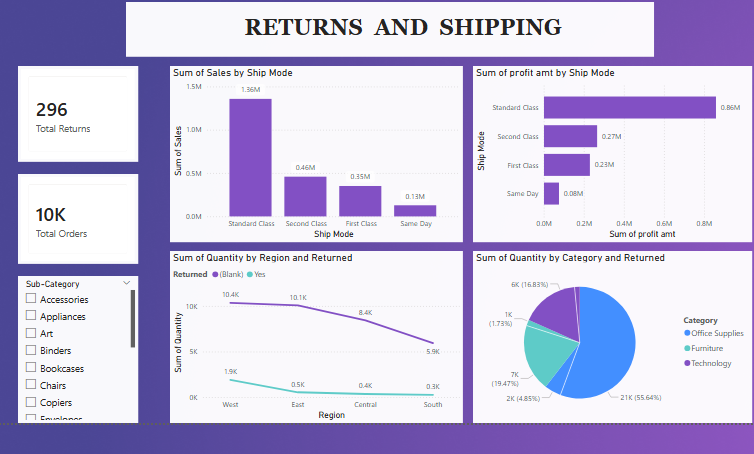

This screenshot's page, from the dashboard's own definition file:
{"tool":"powerbi","page":{"name":"RETURNS/SHIP","canvas":[1280,720],"ordinal":3},"visuals":[{"type":"textbox","box":[216.7,13.4,886.9,92.4],"z":0},{"type":"cardVisual","fields":{"Data":["Returns.Total Returns"]},"box":[35.3,120.9,201.6,161.3],"z":1000},{"type":"lineStackedColumnComboChart","fields":{"Category":["Orders.Ship Mode"],"Y":["Sum(Orders.Sales)"]},"box":[290.6,120.9,492.2,295.6],"z":2000},{"type":"clusteredBarChart","fields":{"Category":["Orders.Ship Mode"],"Y":["Sum(Orders.profit amt)"]},"box":[799.6,120.9,468.7,295.6],"z":3000},{"type":"lineChart","fields":{"Y":["Sum(Orders.Quantity)"],"Category":["Orders.Region"],"Series":["Returns.Returned"]},"box":[290.6,431.7,492.2,288.9],"z":4000},{"type":"pieChart","fields":{"Category":["Orders.Category"],"Y":["Sum(Orders.Quantity)"],"Series":["Returns.Returned"]},"box":[799.6,431.7,468.7,288.9],"z":4001},{"type":"cardVisual","fields":{"Data":["Orders.Total Orders"]},"box":[35.3,302.4,201.6,151.2],"z":4002},{"type":"slicer","fields":{"Values":["Orders.Sub-Category"]},"box":[35.3,473.7,201.6,246.9],"z":4003}]}

Visuals, with their boxes in screenshot pixels (x1, y1, x2, y2):
textbox: 123 0 657 54
cardVisual - Returns.Total Returns: 13 63 135 160
lineStackedColumnComboChart - Orders.Ship Mode x Sum(Orders.Sales): 167 63 464 241
clusteredBarChart - Orders.Ship Mode x Sum(Orders.profit amt): 474 63 753 241
lineChart - Sum(Orders.Quantity) x Orders.Region: 167 250 464 424
pieChart - Orders.Category x Sum(Orders.Quantity): 474 250 753 424
cardVisual - Orders.Total Orders: 13 172 135 263
slicer - Orders.Sub-Category: 13 275 135 424
